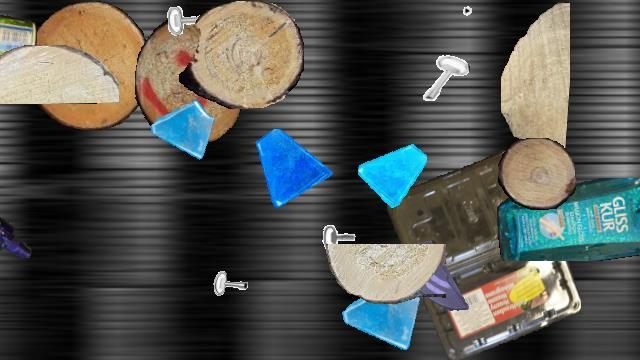glass: (340, 275, 424, 359), (253, 129, 333, 209), (394, 234, 474, 314), (149, 97, 217, 165), (358, 139, 426, 207)
metal: (161, 1, 221, 61), (207, 247, 259, 299), (419, 52, 469, 102), (320, 206, 366, 252), (462, 1, 502, 41)
plastic: (387, 149, 581, 359), (497, 178, 640, 260), (0, 1, 36, 71), (0, 184, 31, 258)
wood: (27, 1, 151, 129), (179, 1, 303, 109), (135, 20, 243, 142), (501, 1, 569, 159), (326, 244, 446, 304), (0, 45, 118, 103), (498, 138, 576, 210)
